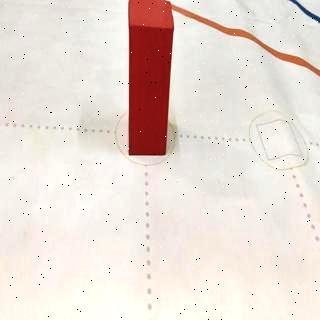redbox: (127, 0, 174, 156)
